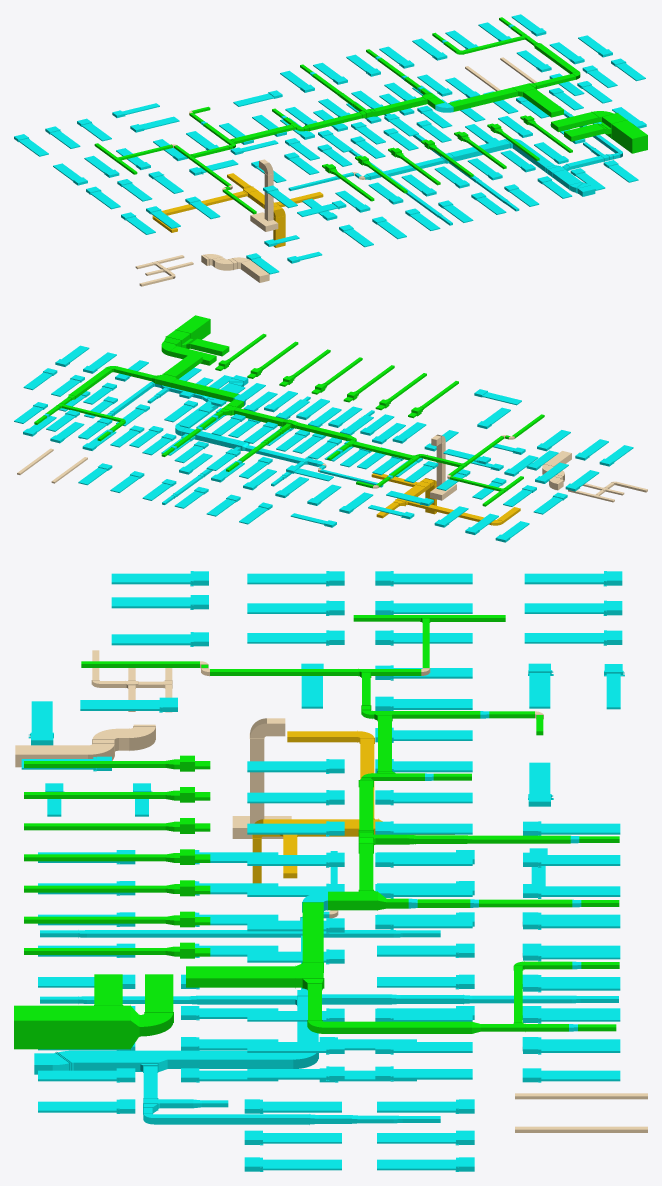
File: NewProject.gltf
3 views of the same model, one above another, from view 1: azimuth 30°, elevation 25°; view 2: azimuth 150°, elevation 25°; view 3: azimuth 270°, elevation 25° (orthographic). The views are drawn at different scales.
Parts seen in each view (by area): view 1: 镀锌风管 (×10); view 2: 镀锌风管 (×13); view 3: 镀锌风管 (×75), 标准.
Part boxes in pixels (x1,y1,x2,y2): 镀锌风管 (×10): [162, 87, 647, 215]; 镀锌风管 (×13): [69, 315, 490, 524]; 镀锌风管 (×75): [14, 573, 647, 1170]; 标准: [93, 1005, 130, 1049].
Size of the model in its own units: 69.32 by 10.46 by 36.08.
